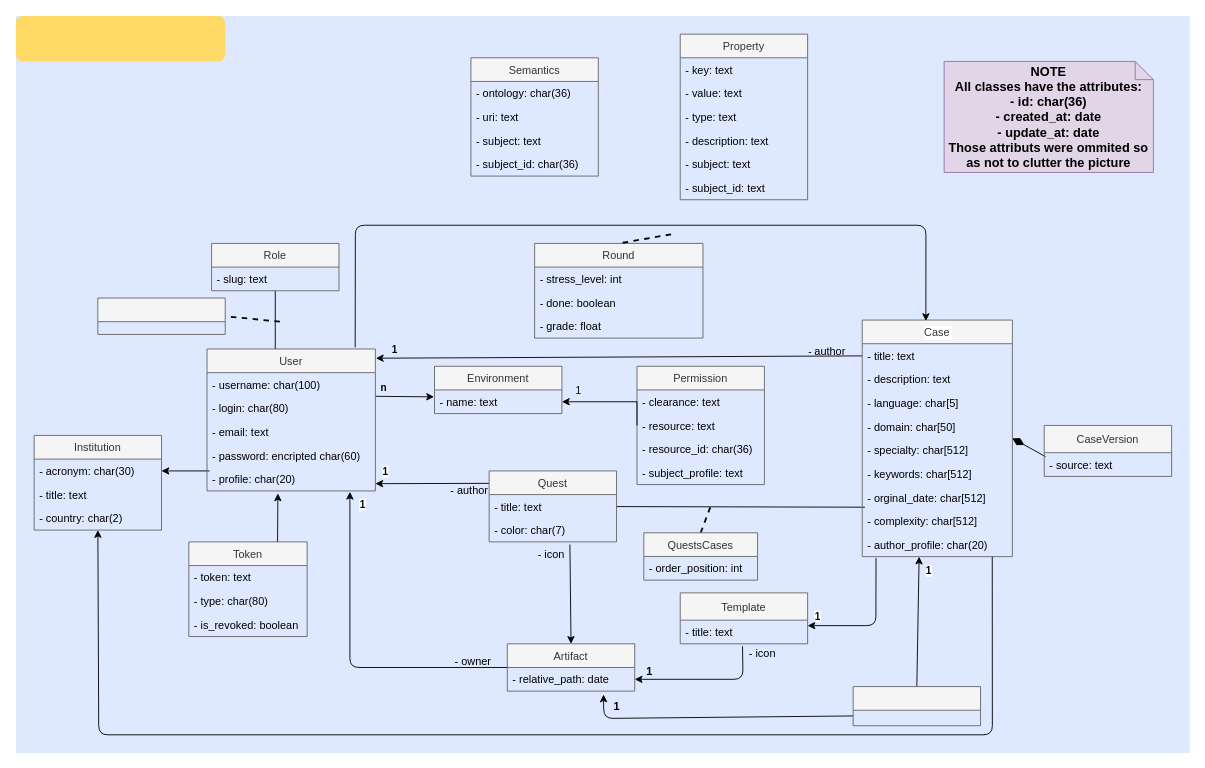
This 1205x768 diagram has some shape labels left out. Each missing label, with the centre of its shape:
CaseArtifacts: (916,706)
Class Diagram - Release: v2_0_0 Author: Fagner Leal: (120,38)
RolesUsers: (161,315)
